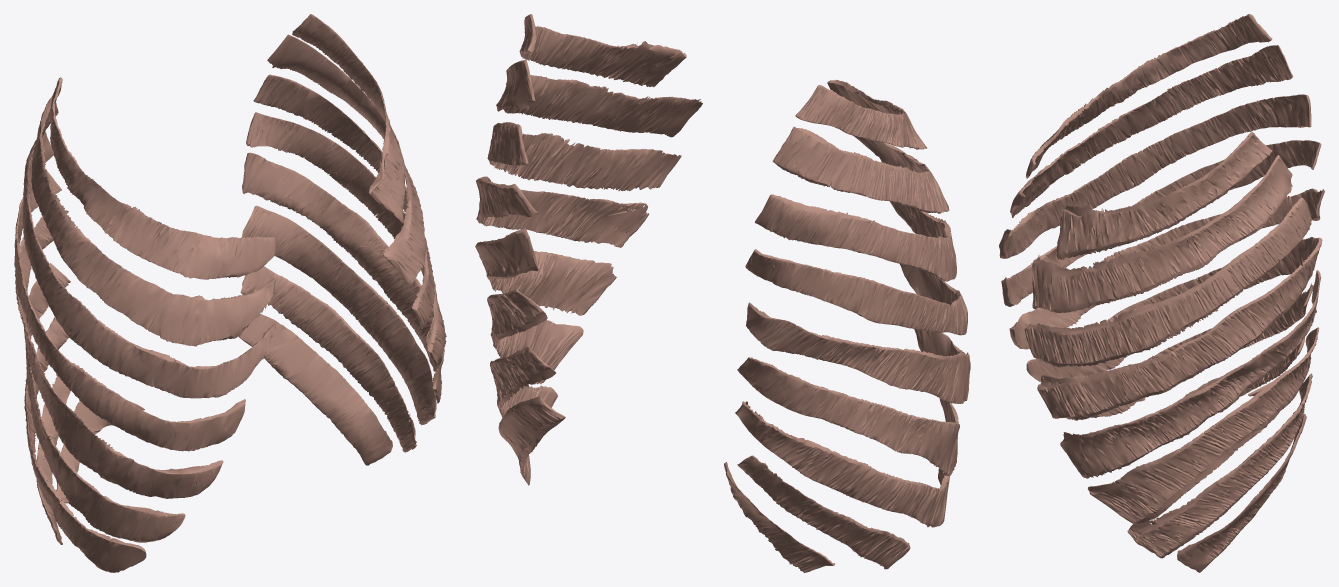
File: thorax-18.glb
3 renders of one model, left to right at view 1: azimuth 30°, elevation 25°; view 2: azimuth 150°, elevation 25°; view 3: azimuth 270°, elevation 25°, orthographic. The views are drawn at different scales.
Visible parts, largest first — view 1: FJ1455, FJ1454M; view 2: FJ1455, FJ1454M; view 3: FJ1454M, FJ1455.
Part boxes in pixels (bbox=[...]): FJ1455: bbox=[14, 77, 275, 572]; FJ1454M: bbox=[238, 14, 446, 465]; FJ1455: bbox=[724, 79, 970, 572]; FJ1454M: bbox=[475, 14, 702, 485]; FJ1454M: bbox=[1024, 132, 1322, 572]; FJ1455: bbox=[999, 14, 1324, 432].
Bounding box in the file's own units: 0.2675 × 0.2965 × 0.2047.
